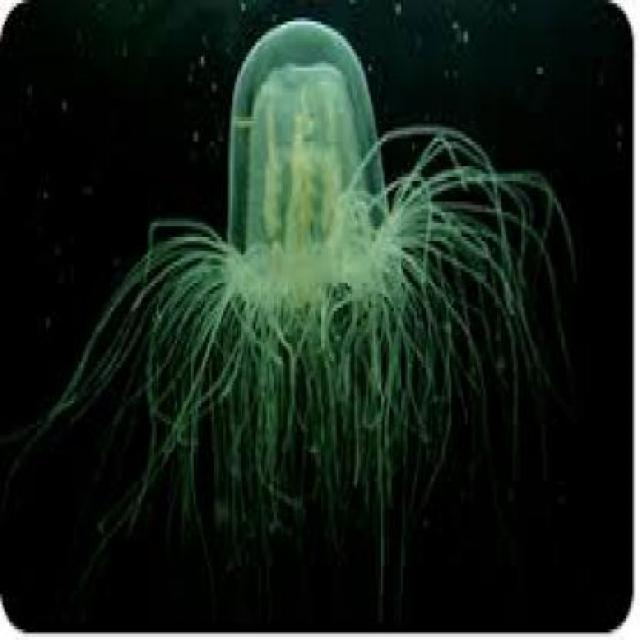Jellyfish: (7, 4, 576, 587)
